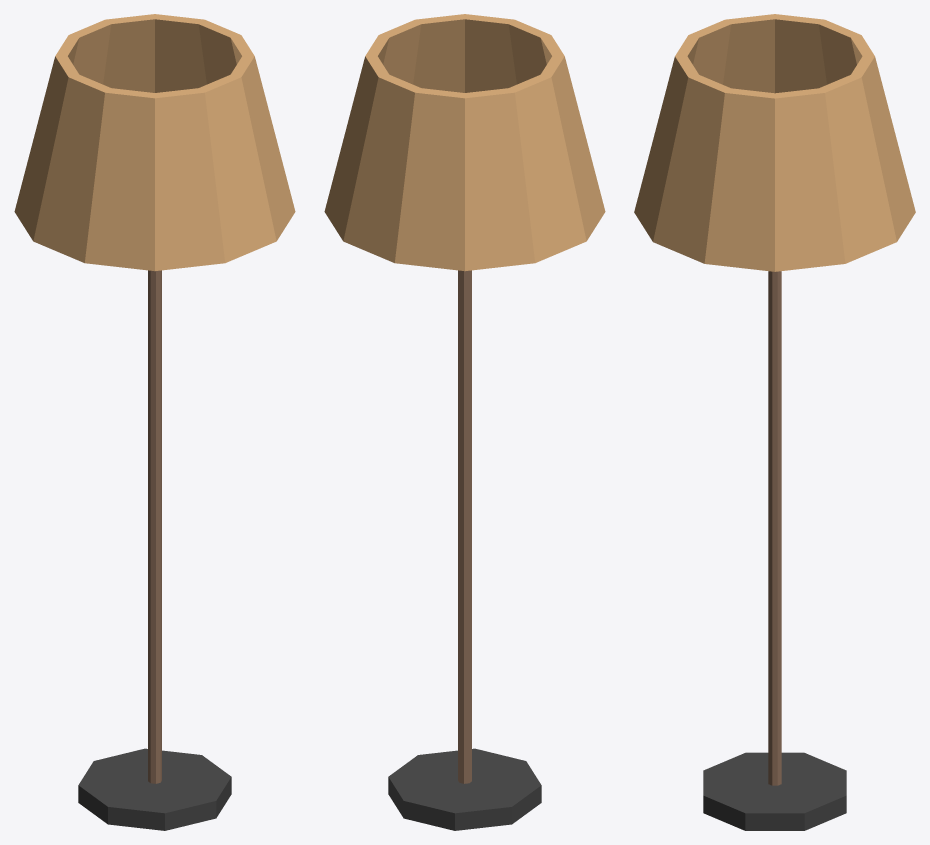
File: Light_06.fbx
3 renders of one model, left to right at view 1: azimuth 30°, elevation 25°; view 2: azimuth 150°, elevation 25°; view 3: azimuth 270°, elevation 25°, orthographic.
Visible parts, largest first — view 1: Light_06; view 2: Light_06; view 3: Light_06.
Part boxes in pixels (x1,y1,x2,y2): Light_06: (14, 14, 295, 830); Light_06: (324, 14, 605, 830); Light_06: (634, 14, 915, 830).
Bounding box in the file's own units: 51.96 × 151 × 51.96.
